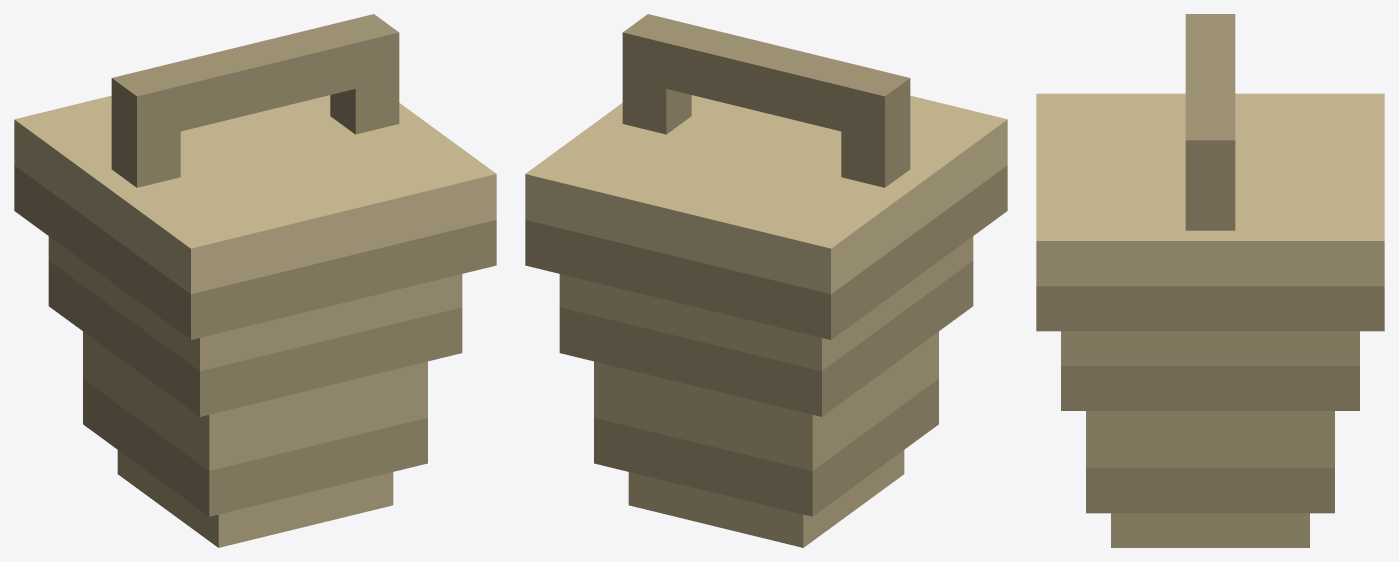
The model's file is cesta_pan_comunal_01.glb.
3 renders of one model, left to right at view 1: azimuth 30°, elevation 25°; view 2: azimuth 150°, elevation 25°; view 3: azimuth 270°, elevation 25°, orthographic.
Parts seen in each view (by area): view 1: cesta_pan_comunal; view 2: cesta_pan_comunal; view 3: cesta_pan_comunal.
Part boxes in pixels (x1=…): cesta_pan_comunal: x1=14, y1=14, x2=496, y2=547; cesta_pan_comunal: x1=525, y1=14, x2=1007, y2=547; cesta_pan_comunal: x1=1036, y1=14, x2=1384, y2=547.
Bounding box in the file's own units: 1 × 1.36 × 1.
